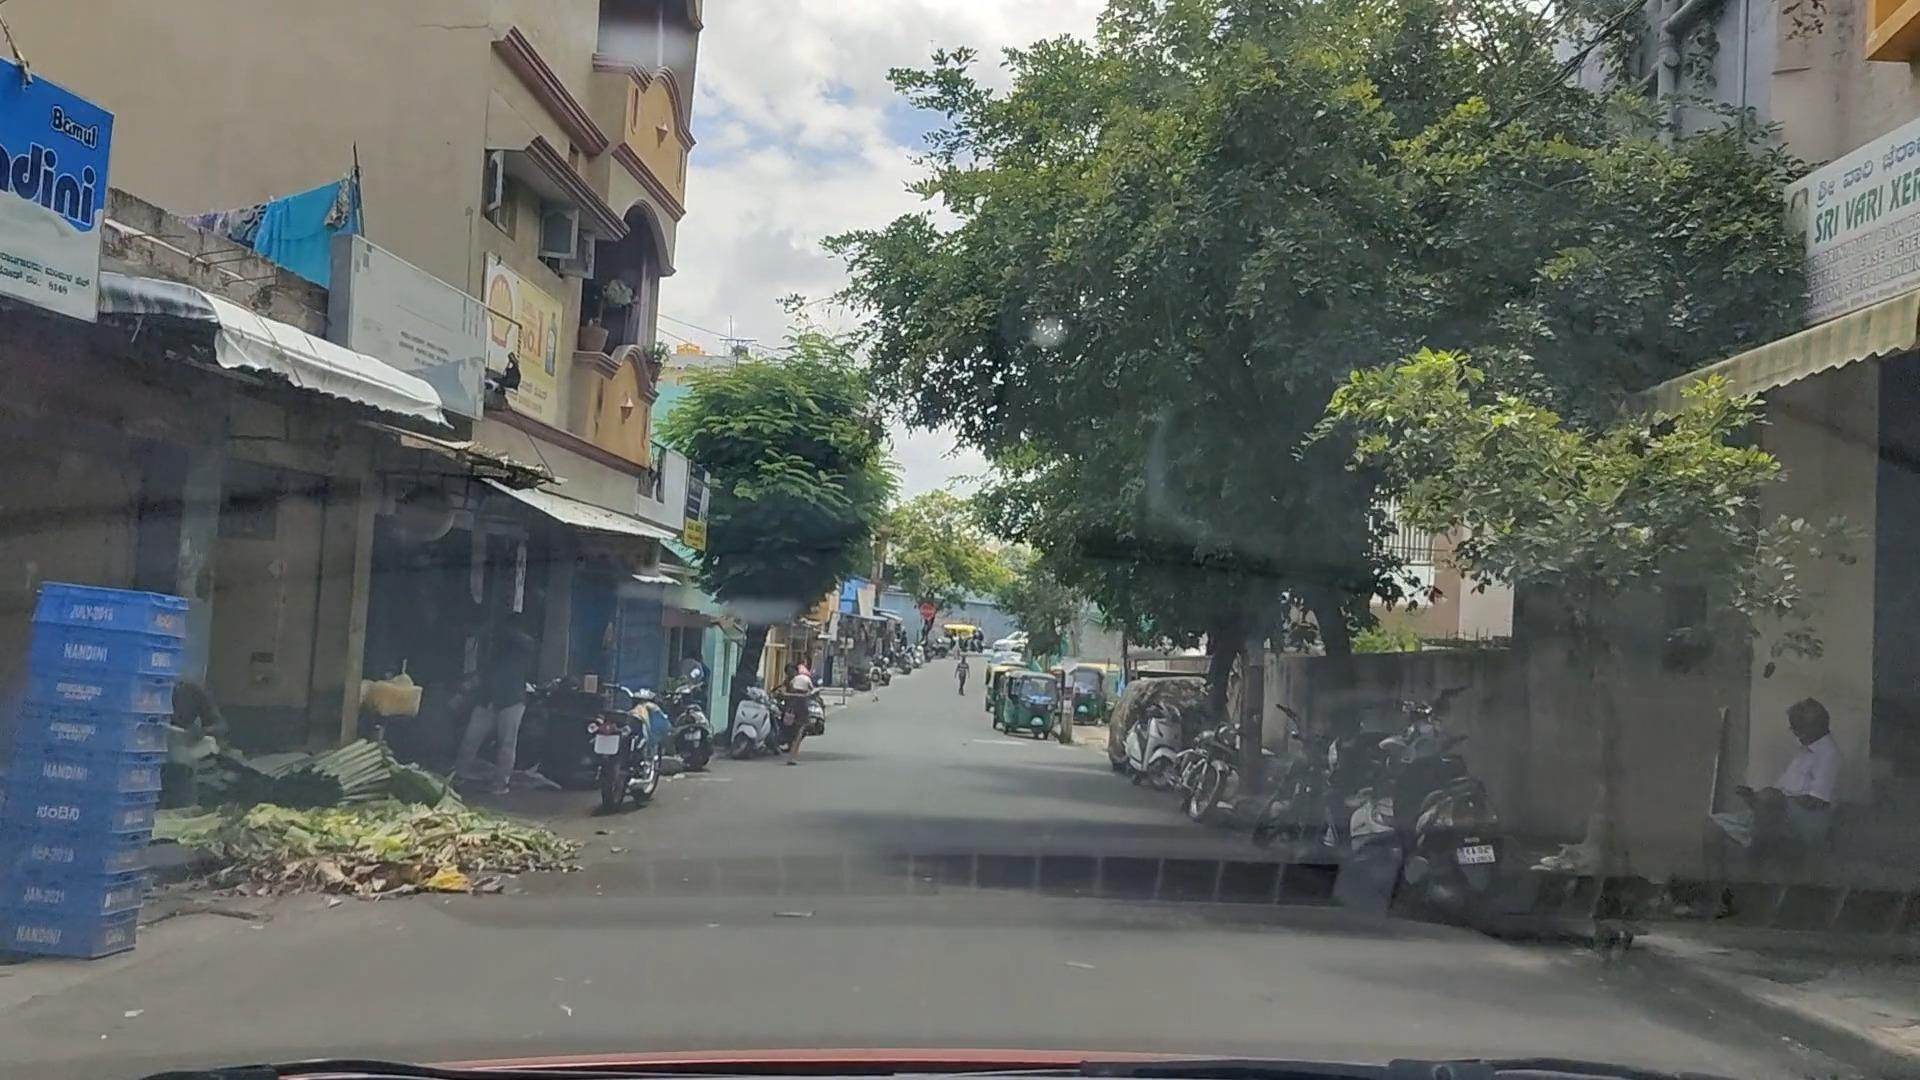LMV: (595, 676, 662, 794), (998, 669, 1050, 740)
